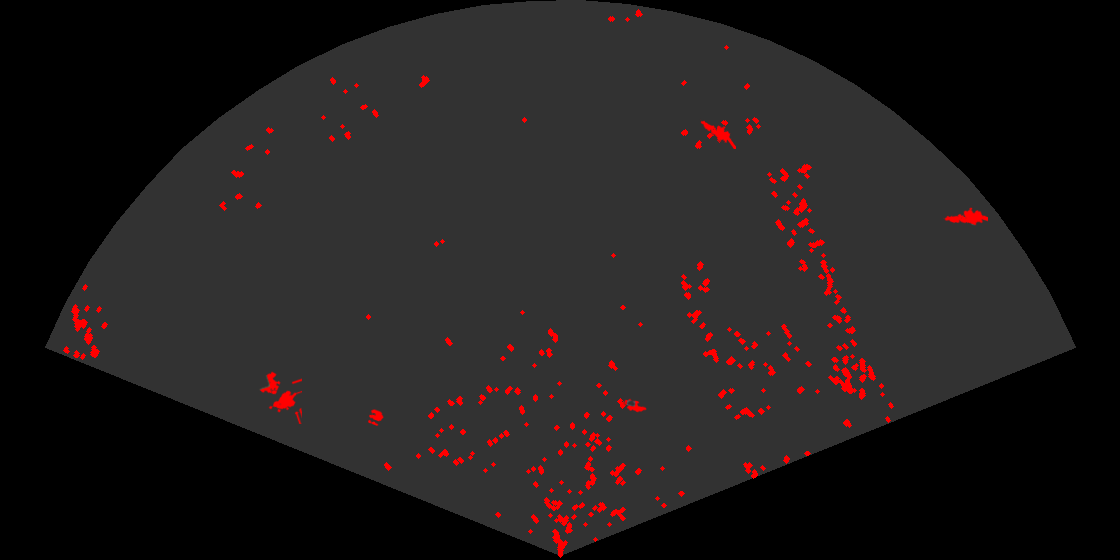AUV: (623, 397, 648, 414)
ball: (366, 408, 385, 428)
cage: (258, 370, 302, 424)
frogman: (699, 118, 736, 149), (943, 206, 988, 227)
